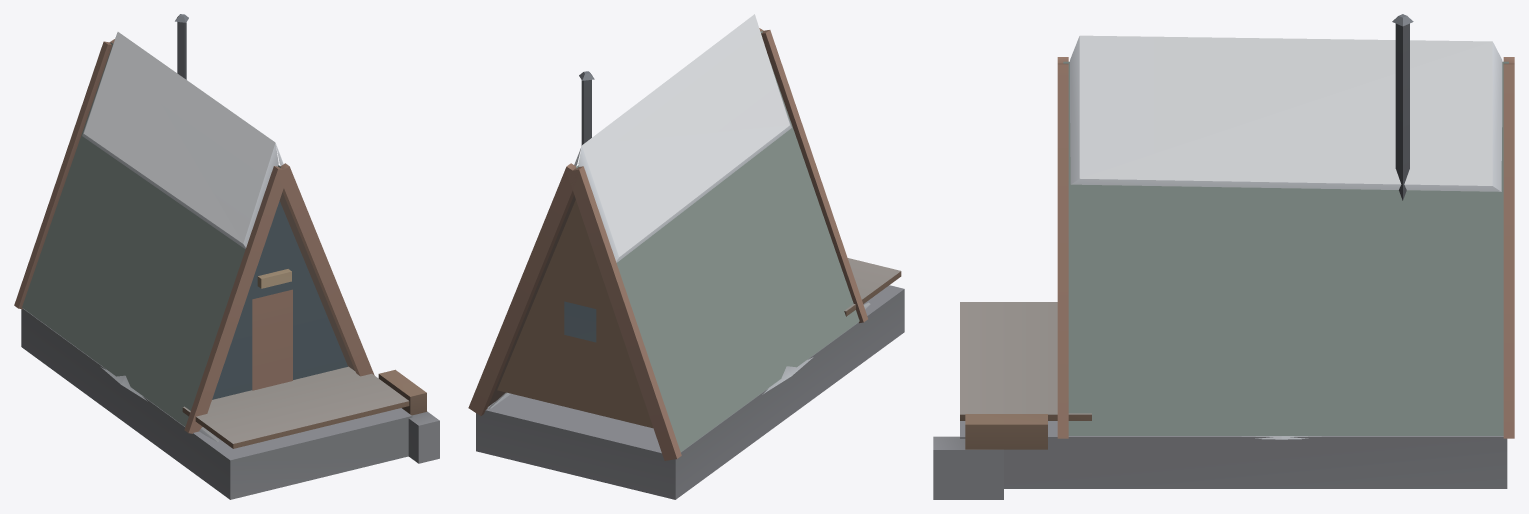
Rendered from aframe.lod2.glb.
3 renders of one model, left to right at view 1: azimuth 30°, elevation 25°; view 2: azimuth 150°, elevation 25°; view 3: azimuth 270°, elevation 25°, orthographic. The views are drawn at different scales.
Size of the model in its own units: 5.6 by 8.7 by 10.56.
